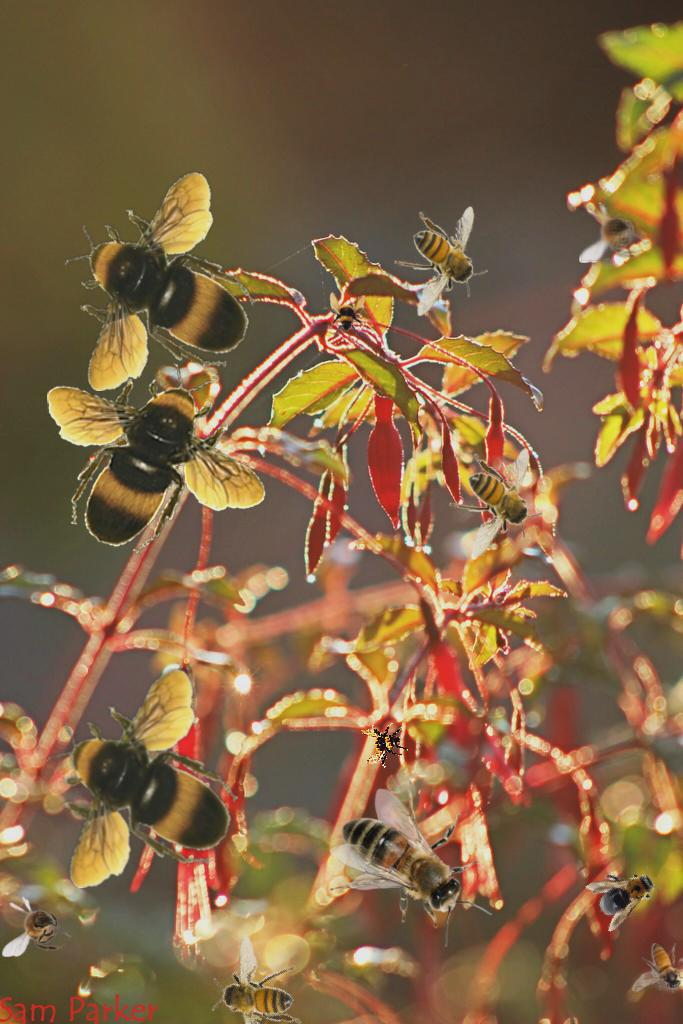Bee: (47, 668, 238, 888), (47, 363, 267, 554), (65, 171, 256, 391), (330, 780, 492, 947), (186, 920, 327, 1024), (449, 448, 543, 559), (394, 206, 488, 317), (583, 853, 669, 933), (2, 896, 72, 957), (579, 202, 649, 263), (357, 718, 411, 772), (632, 943, 683, 993), (323, 292, 367, 336)
